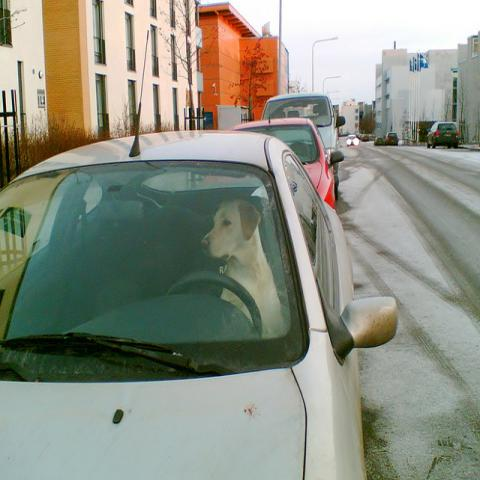car: (0, 131, 398, 473), (224, 118, 334, 212), (260, 92, 347, 203), (428, 121, 459, 150), (384, 132, 399, 147), (346, 134, 358, 146), (374, 137, 385, 145), (360, 134, 370, 142)
